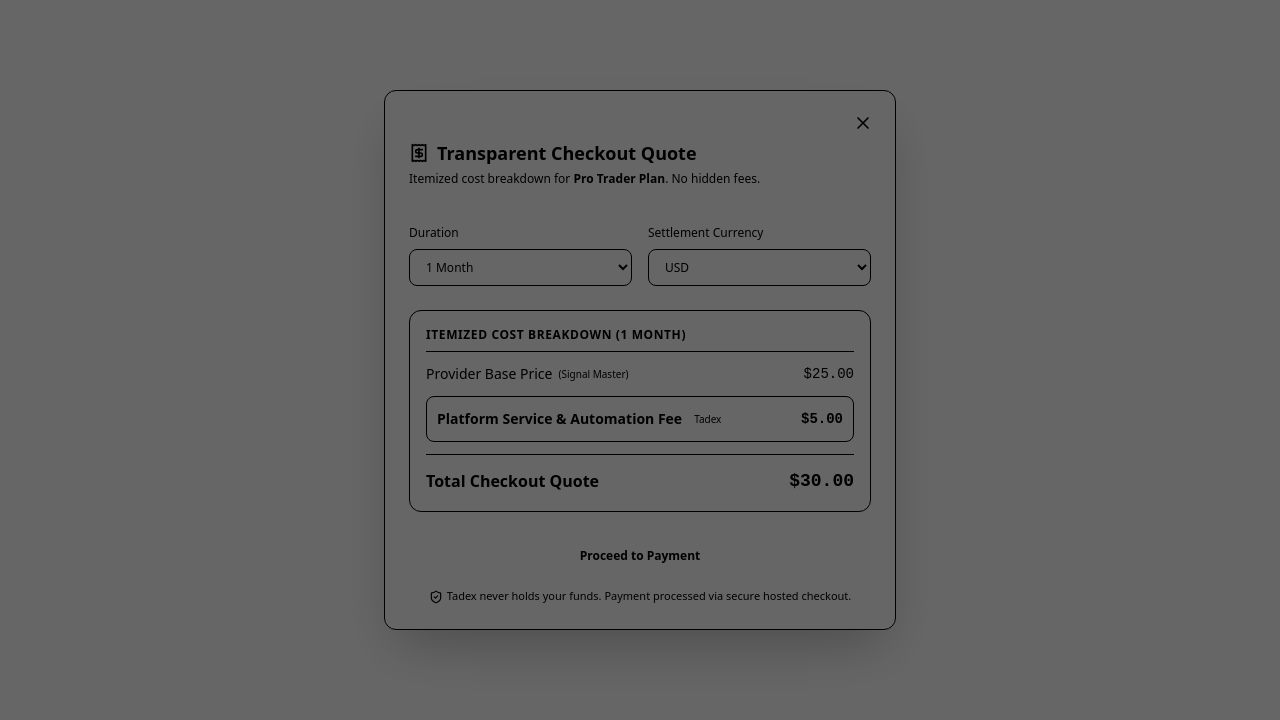
Test: CheckoutQuoteModal › displays email verification required error alert when checkout initiation returns 403 Forbidden
Check: the text "Total Checkout Quote" is shown, box [426,469,599,493]
Click the button "Proceed to Payment" at (640, 556), box [409,536,871,576]
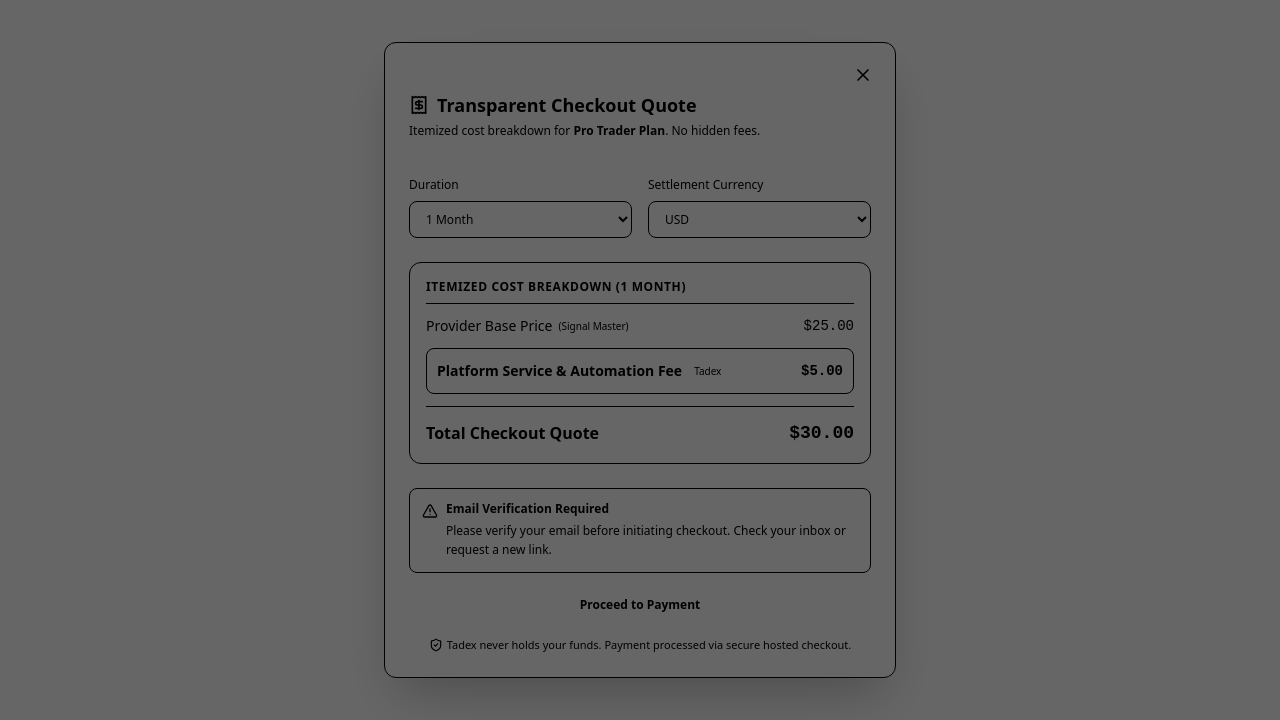
Check: the text "Email Verification Required" is shown, box [446,500,609,517]
Check: the text "Please verify your email before initiating checkout. Check your inbox or request a new link." is shown, box [446,522,846,558]
